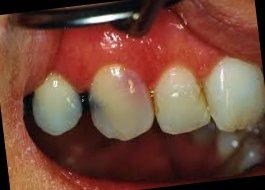Tooth Discoloration: (27, 82, 110, 141)
